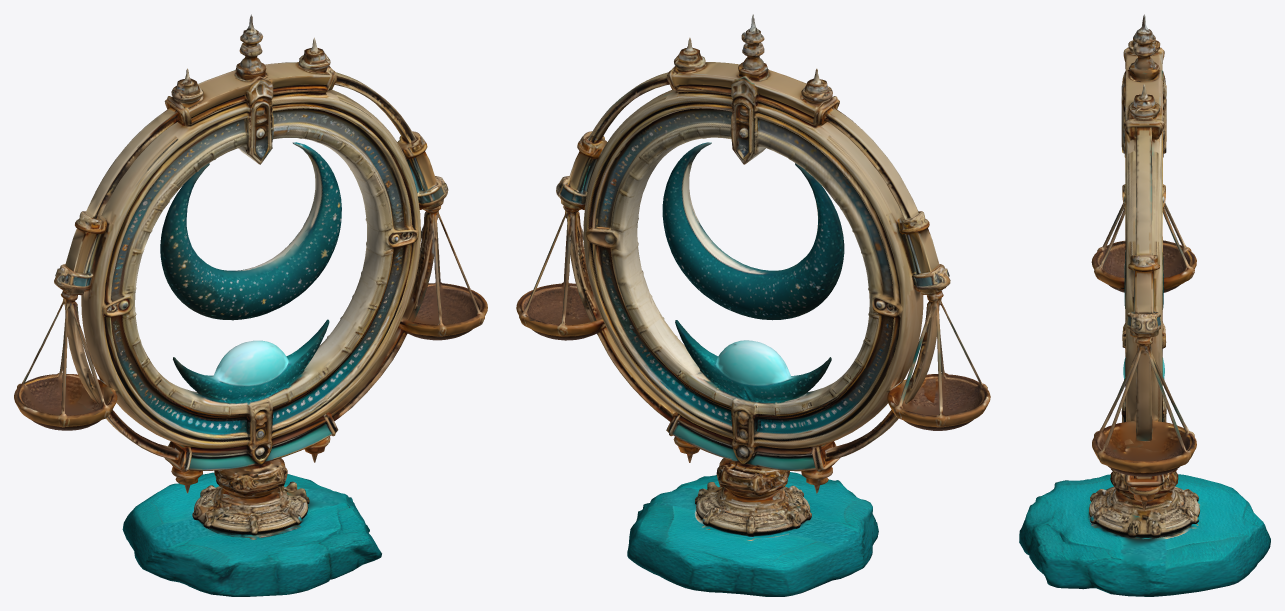
Rendered from moon_orrery.glb.
The picture shows the model from 3 angles, left to right: view 1: azimuth 30°, elevation 25°; view 2: azimuth 150°, elevation 25°; view 3: azimuth 270°, elevation 25°; orthographic projection.
Parts seen in each view (by area): view 1: node_0; view 2: node_0; view 3: node_0.
Part boxes in pixels (bbox=[...]): node_0: bbox=[14, 14, 487, 596]; node_0: bbox=[516, 14, 990, 596]; node_0: bbox=[1019, 14, 1270, 596].
Size of the model in its own units: 0.9947 by 1.09 by 0.4685.
Materials: 1 (1 with a texture image).
